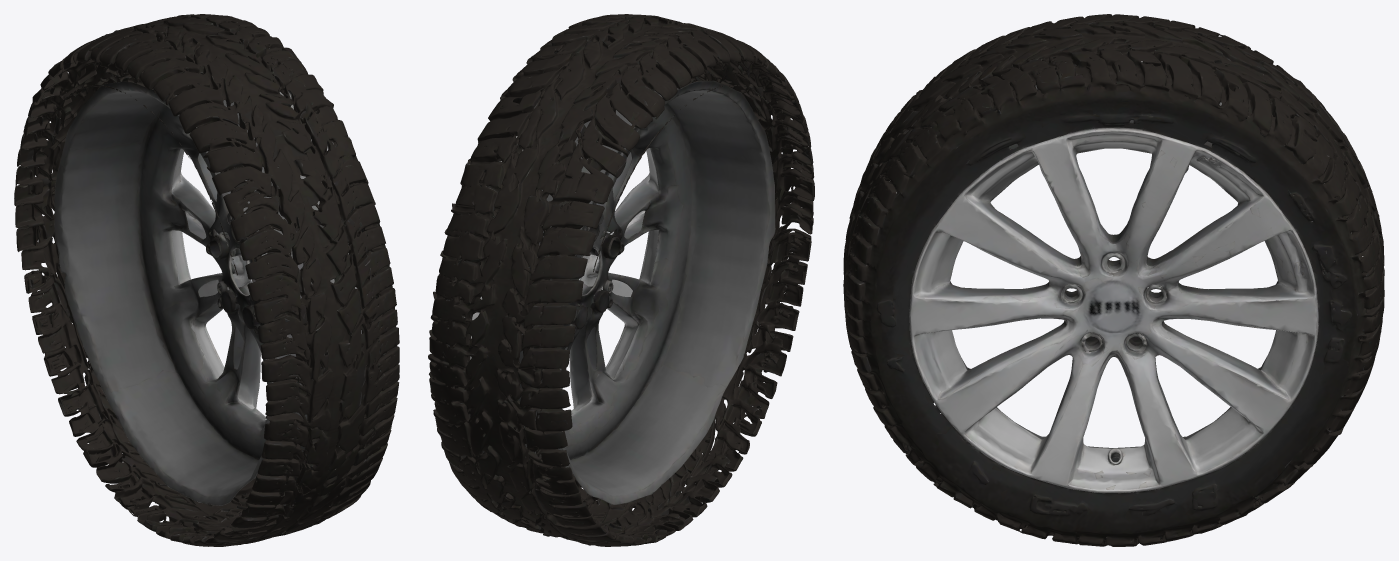
Rendered from reifen.glb.
The picture shows the model from 3 angles, left to right: view 1: azimuth 30°, elevation 25°; view 2: azimuth 150°, elevation 25°; view 3: azimuth 270°, elevation 25°; orthographic projection. The views are drawn at different scales.
Visible parts, largest first — view 1: geometry_0; view 2: geometry_0; view 3: geometry_0.
Part boxes in pixels (bbox=[...]): geometry_0: bbox=[14, 14, 399, 546]; geometry_0: bbox=[428, 14, 814, 546]; geometry_0: bbox=[843, 14, 1384, 546].
Size of the model in its own units: 0.3152 by 0.9994 by 1.
Materials: 1 (1 with a texture image).
